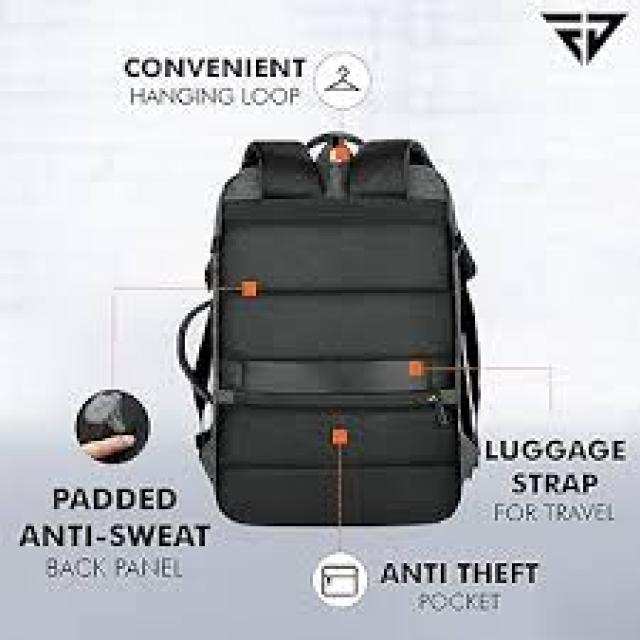backpack: (177, 132, 482, 527)
